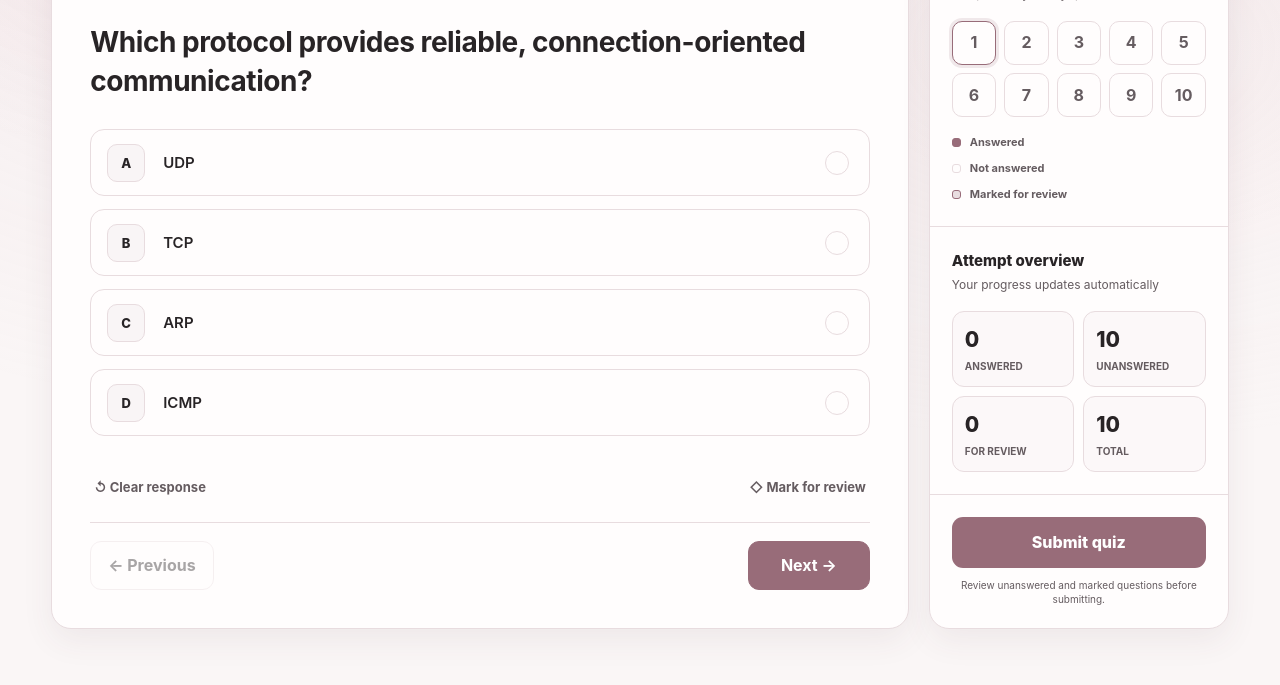
Scenario: CSMQ-41: Quiz Attempt frontend integration › keeps the sample quiz in local demo mode
(page scrolled)
Click the button "Submit quiz".
click(1079, 543)  # box [952, 517, 1206, 568]
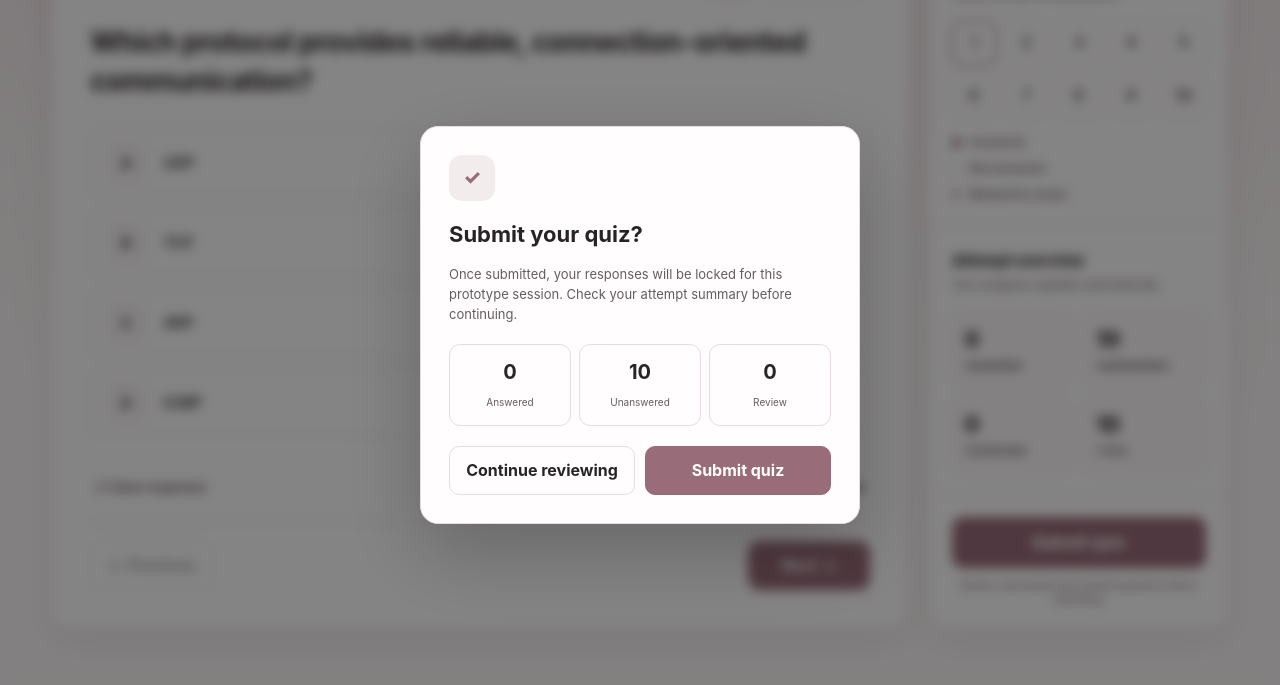
Click the button "Submit quiz".
click(738, 471)  # box [645, 446, 831, 495]
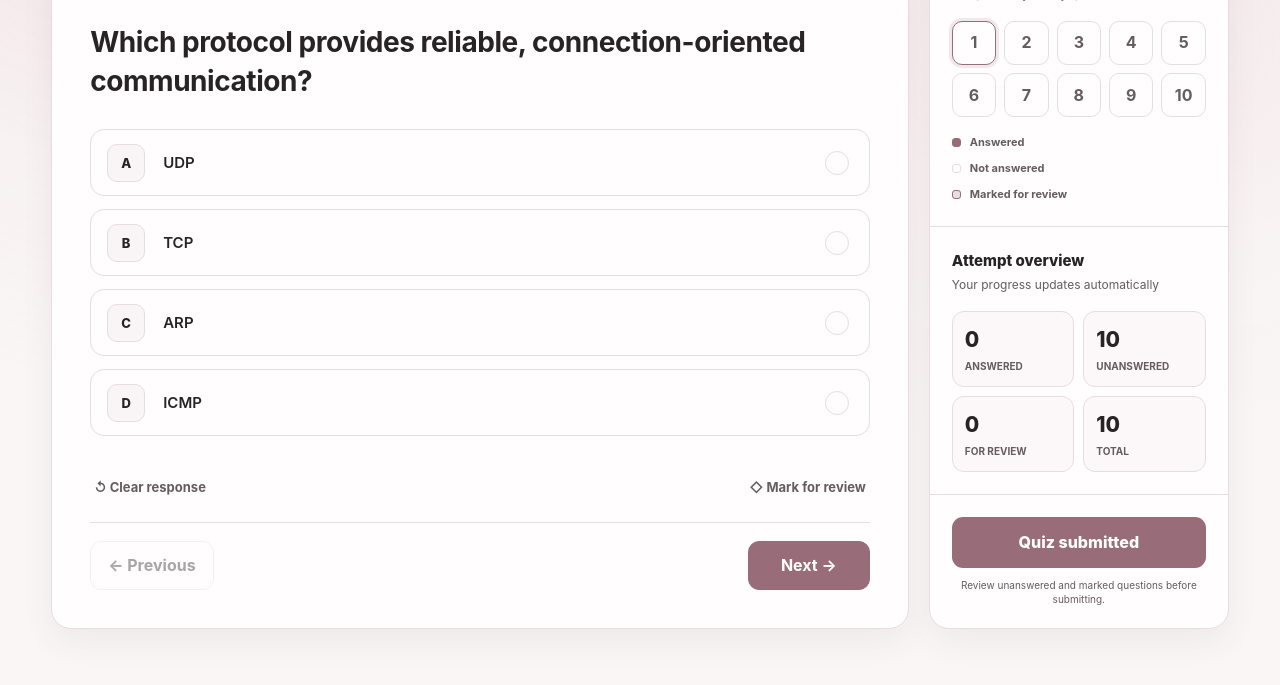
expect the button "Quiz submitted" is shown: met, box [952, 517, 1206, 568]
